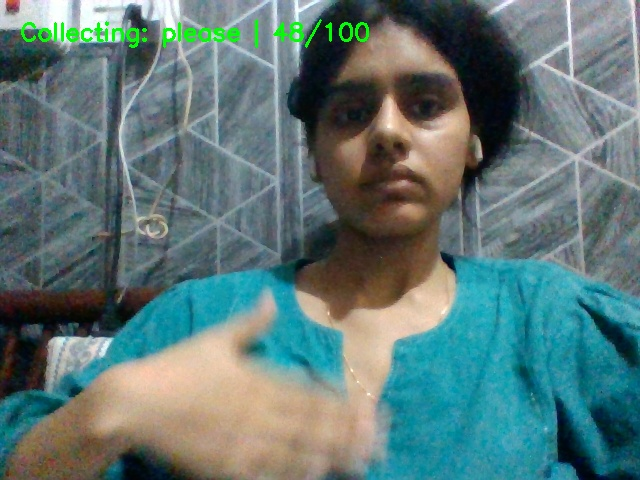please: (96, 284, 406, 480)
